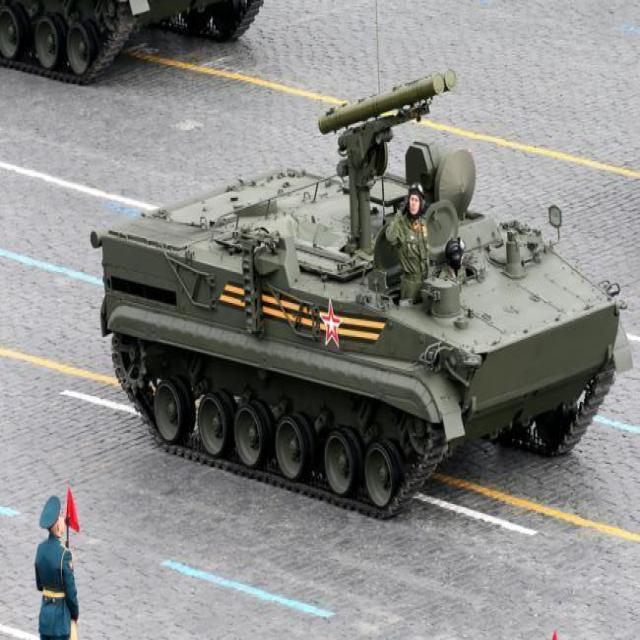Tanks: (72, 59, 567, 488)
